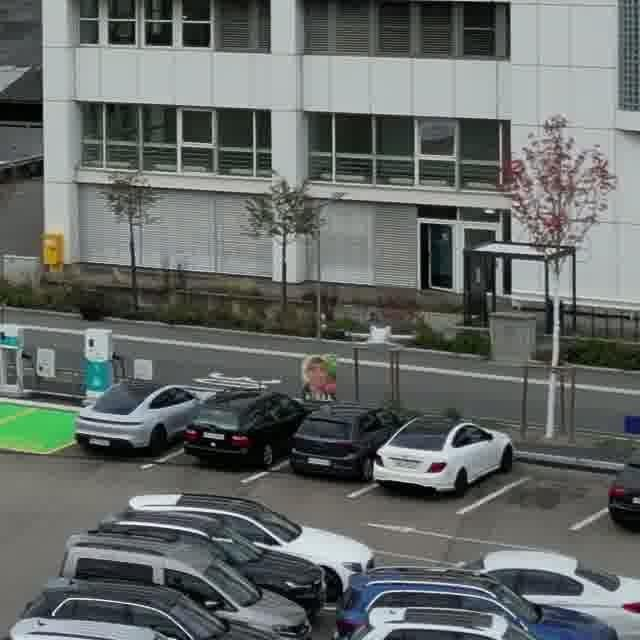Drohne: (344, 323, 415, 348)
